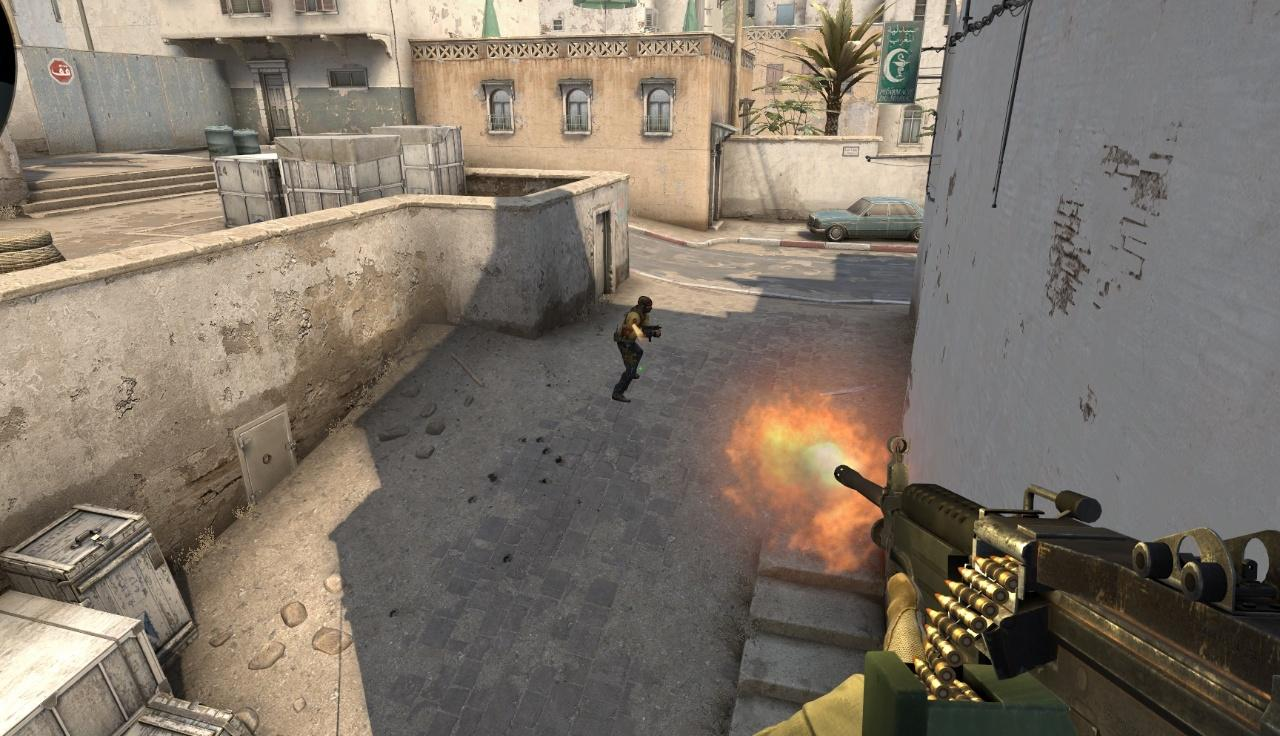rifle: (789, 435, 1280, 736)
tt: (614, 295, 653, 395)
tthead: (639, 297, 652, 314)
